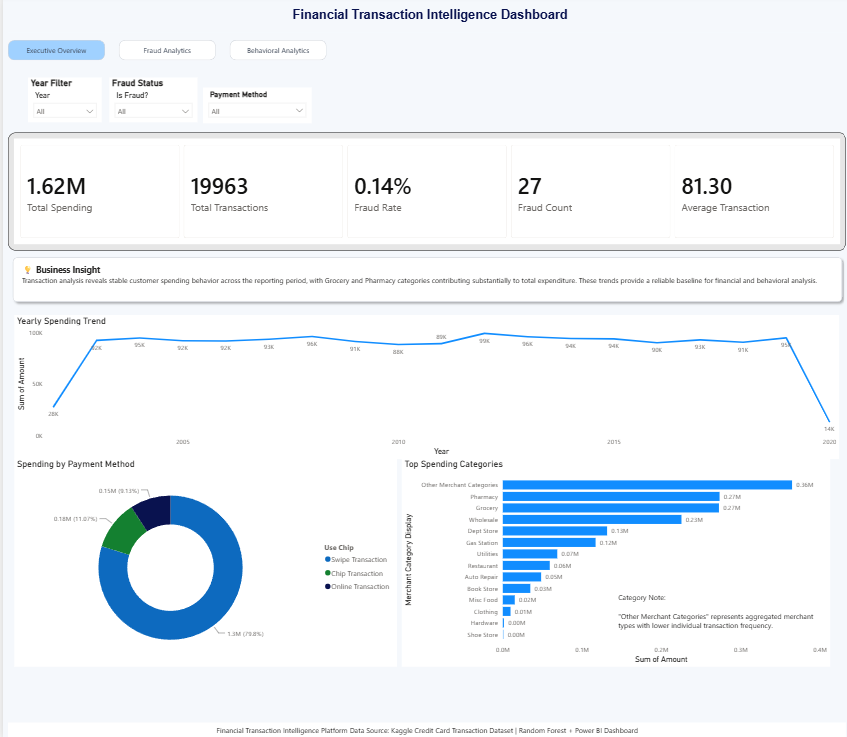

What the dashboard file says about the page in this screenshot:
{"tool":"powerbi","page":{"name":"Executive Overview","canvas":[1600,1400],"ordinal":0},"visuals":[{"type":"textbox","box":[9.4,0,1590.5,70.4],"z":0},{"type":"cardVisual","fields":{"Data":["_Measures.Total Spending","_Measures.Total Transactions","_Measures.Fraud Rate","_Measures.Fraud Count","_Measures.Average Transaction"]},"box":[10,258.6,1574.3,221.4],"z":1000},{"type":"lineChart","title":"Yearly Spending Trend","fields":{"Category":["cleaned_transactions.Year"],"Y":["Sum(cleaned_transactions.Amount)"]},"box":[20,600,1548,270],"z":2000},{"type":"donutChart","title":"Spending by Payment Method","fields":{"Category":["cleaned_transactions.Use Chip"],"Y":["Sum(cleaned_transactions.Amount)"]},"box":[20,870,718,390],"z":3000},{"type":"barChart","title":"Top Spending Categories","fields":{"Y":["Sum(cleaned_transactions.Amount)"],"Category":["cleaned_transactions.Merchant Category Display"]},"box":[748,870,804,390],"z":4000},{"type":"slicer","title":"Year Filter","fields":{"Values":["cleaned_transactions.Year"]},"box":[47.1,155.7,138.6,84.3],"z":5000},{"type":"slicer","title":"Fraud Status","fields":{"Values":["cleaned_transactions.Is Fraud?"]},"box":[198.6,155.7,165.7,84.3],"z":6000},{"type":"slicer","fields":{"Values":["cleaned_transactions.Use Chip"]},"box":[376.2,172.5,203.8,67.5],"z":7000},{"type":"pageNavigator","box":[10,84.3,600,38.6],"z":8000},{"type":"textbox","box":[10,1366,1574,34],"z":8001},{"type":"shape","box":[10,482.9,1574.3,101.4],"z":8002},{"type":"textbox","box":[31.4,500,1520,58.6],"z":8003},{"type":"textbox","box":[1150,1116,382,88],"z":8004}]}

Visuals, with their boxes in screenshot pixels (x1, y1, x2, y2), scaled from the page's 1600x1400 canvas onto the 847x737 screenshot:
textbox: box(5, 0, 846, 37)
cardVisual - _Measures.Total Spending x _Measures.Total Transactions: box(5, 136, 839, 253)
"Yearly Spending Trend" lineChart: box(11, 316, 830, 458)
"Spending by Payment Method" donutChart: box(11, 458, 391, 663)
"Top Spending Categories" barChart: box(396, 458, 822, 663)
"Year Filter" slicer: box(25, 82, 98, 126)
"Fraud Status" slicer: box(105, 82, 193, 126)
slicer - cleaned_transactions.Use Chip: box(199, 91, 307, 126)
pageNavigator: box(5, 44, 323, 65)
textbox: box(5, 719, 839, 736)
shape: box(5, 254, 839, 308)
textbox: box(17, 263, 821, 294)
textbox: box(609, 587, 811, 634)
